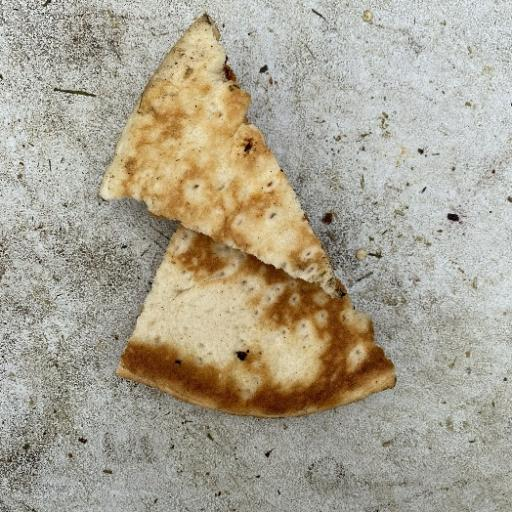Waste: (96, 12, 398, 419), (113, 223, 397, 419)
